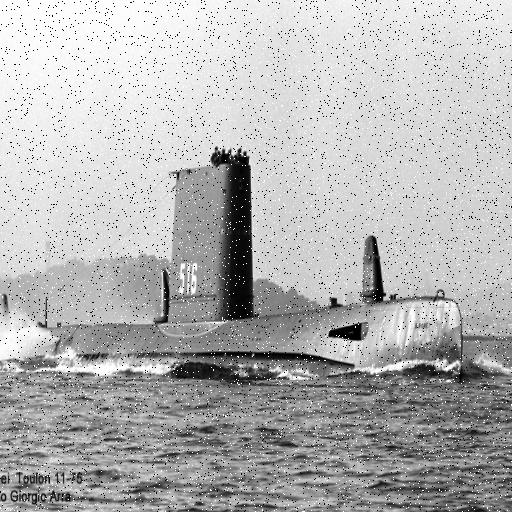submarine: (1, 163, 466, 379)
